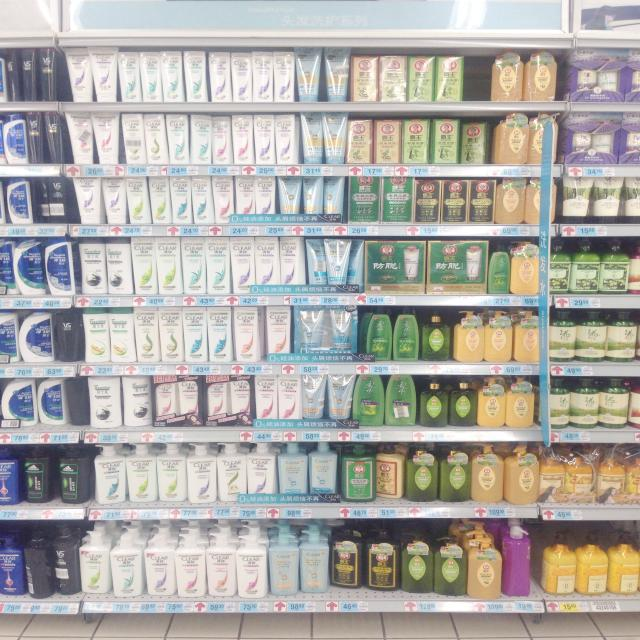empty_space: (466, 56, 486, 96)
